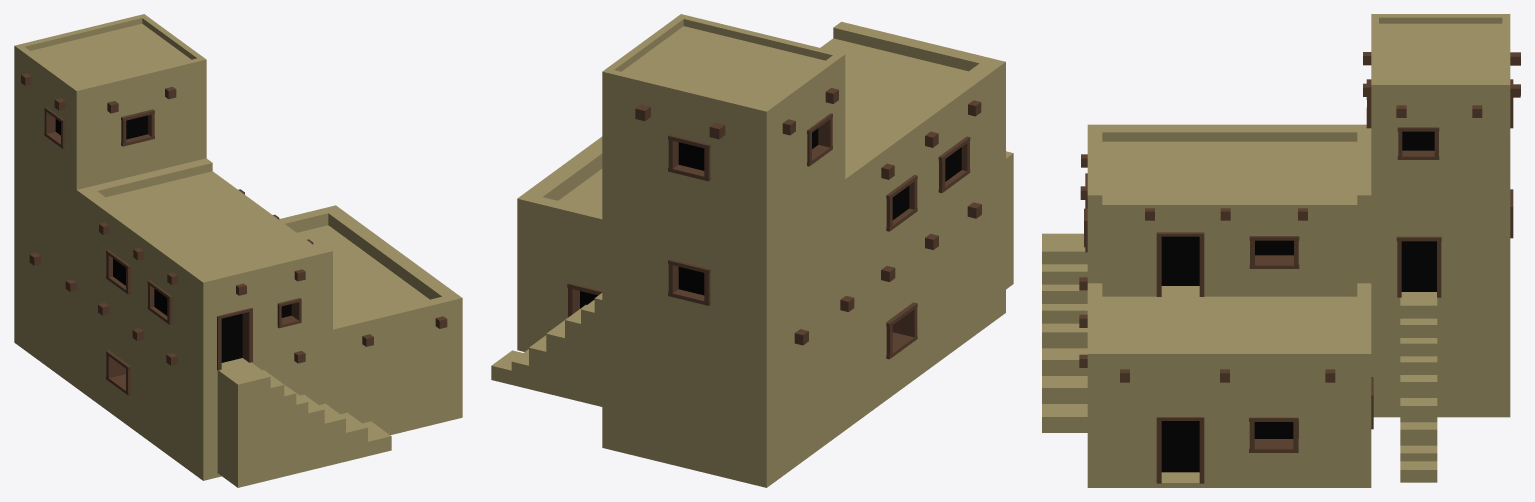
Rendered from outpost.fbx.
3 views of the same model, side by side, from view 1: azimuth 30°, elevation 25°; view 2: azimuth 150°, elevation 25°; view 3: azimuth 270°, elevation 25° (orthographic). The views are drawn at different scales.
Parts seen in each view (by area): view 1: Cube, Cube.001; view 2: Cube, Cube.001; view 3: Cube, Cube.001.
Part boxes in pixels (x1,y1,x2,y2): Cube: [14, 14, 462, 487]; Cube.001: [55, 115, 291, 362]; Cube: [491, 14, 1013, 487]; Cube.001: [580, 128, 961, 308]; Cube: [1042, 14, 1520, 487]; Cube.001: [1161, 131, 1436, 472].
Bounding box in the file's own units: 499 × 521 × 675.
